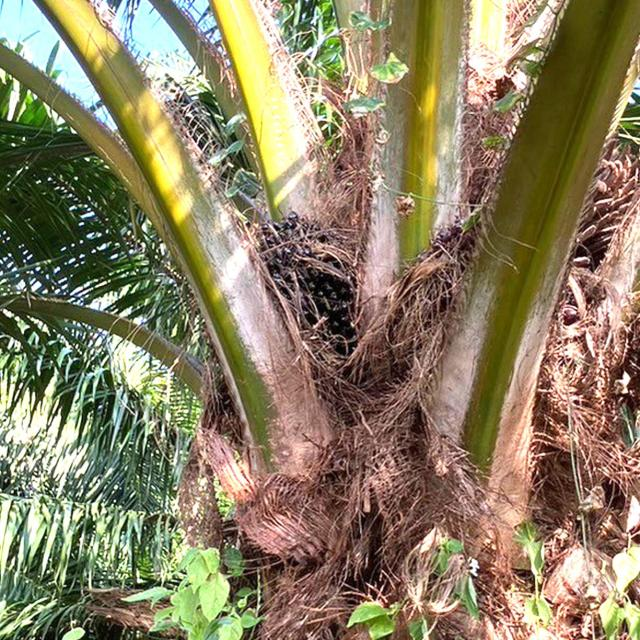unripe: (231, 198, 370, 382)
